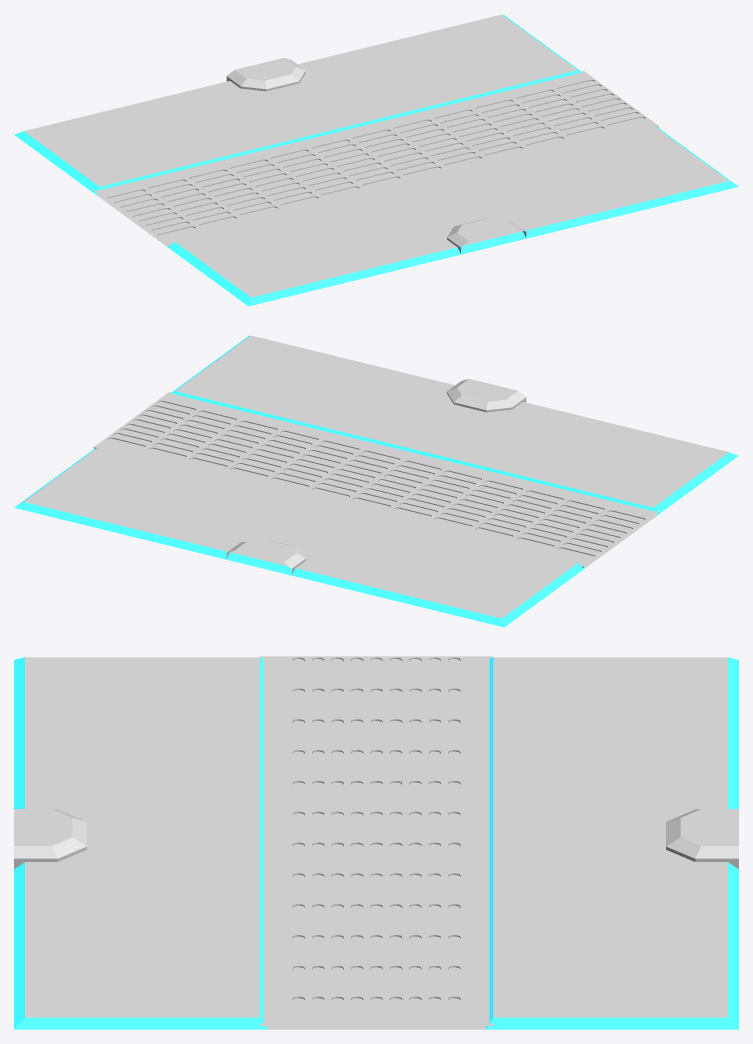
File: SM_GroundTile2.fbx
The picture shows the model from 3 angles, top to bottom: view 1: azimuth 30°, elevation 25°; view 2: azimuth 150°, elevation 25°; view 3: azimuth 270°, elevation 25°; orthographic projection. The views are drawn at different scales.
Visible parts, largest first — view 1: Plane.226; view 2: Plane.226; view 3: Plane.226.
Boxes of the visible parts, left/top/right/bottom form: Plane.226: left=14, top=14, right=738, bottom=306; Plane.226: left=14, top=335, right=738, bottom=627; Plane.226: left=14, top=656, right=738, bottom=1029.
Size of the model in its own units: 6 by 4.97 by 0.1308.
